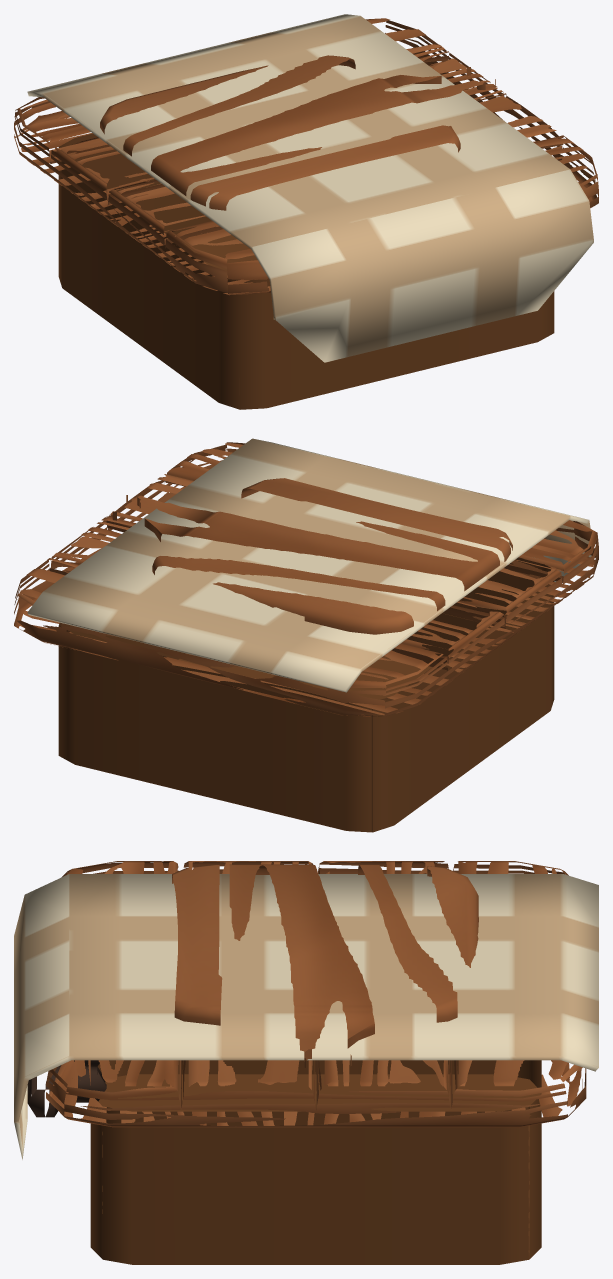
File: DogramaTahtasiYeni.fbx
3 renders of one model, top to bottom at view 1: azimuth 30°, elevation 25°; view 2: azimuth 150°, elevation 25°; view 3: azimuth 270°, elevation 25°, orthographic. The views are drawn at different scales.
Visible parts, largest first — view 1: DogramaTahtasiYeni; view 2: DogramaTahtasiYeni; view 3: DogramaTahtasiYeni.
Boxes of the visible parts, x1=… form: DogramaTahtasiYeni: x1=14, y1=14, x2=598, y2=409; DogramaTahtasiYeni: x1=14, y1=438, x2=598, y2=832; DogramaTahtasiYeni: x1=14, y1=861, x2=598, y2=1264.
Bounding box in the file's own units: 101 × 44.99 × 109.
